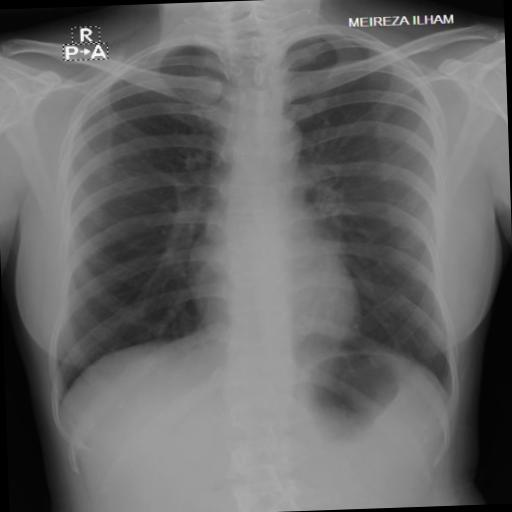normal: (30, 5, 466, 420)
